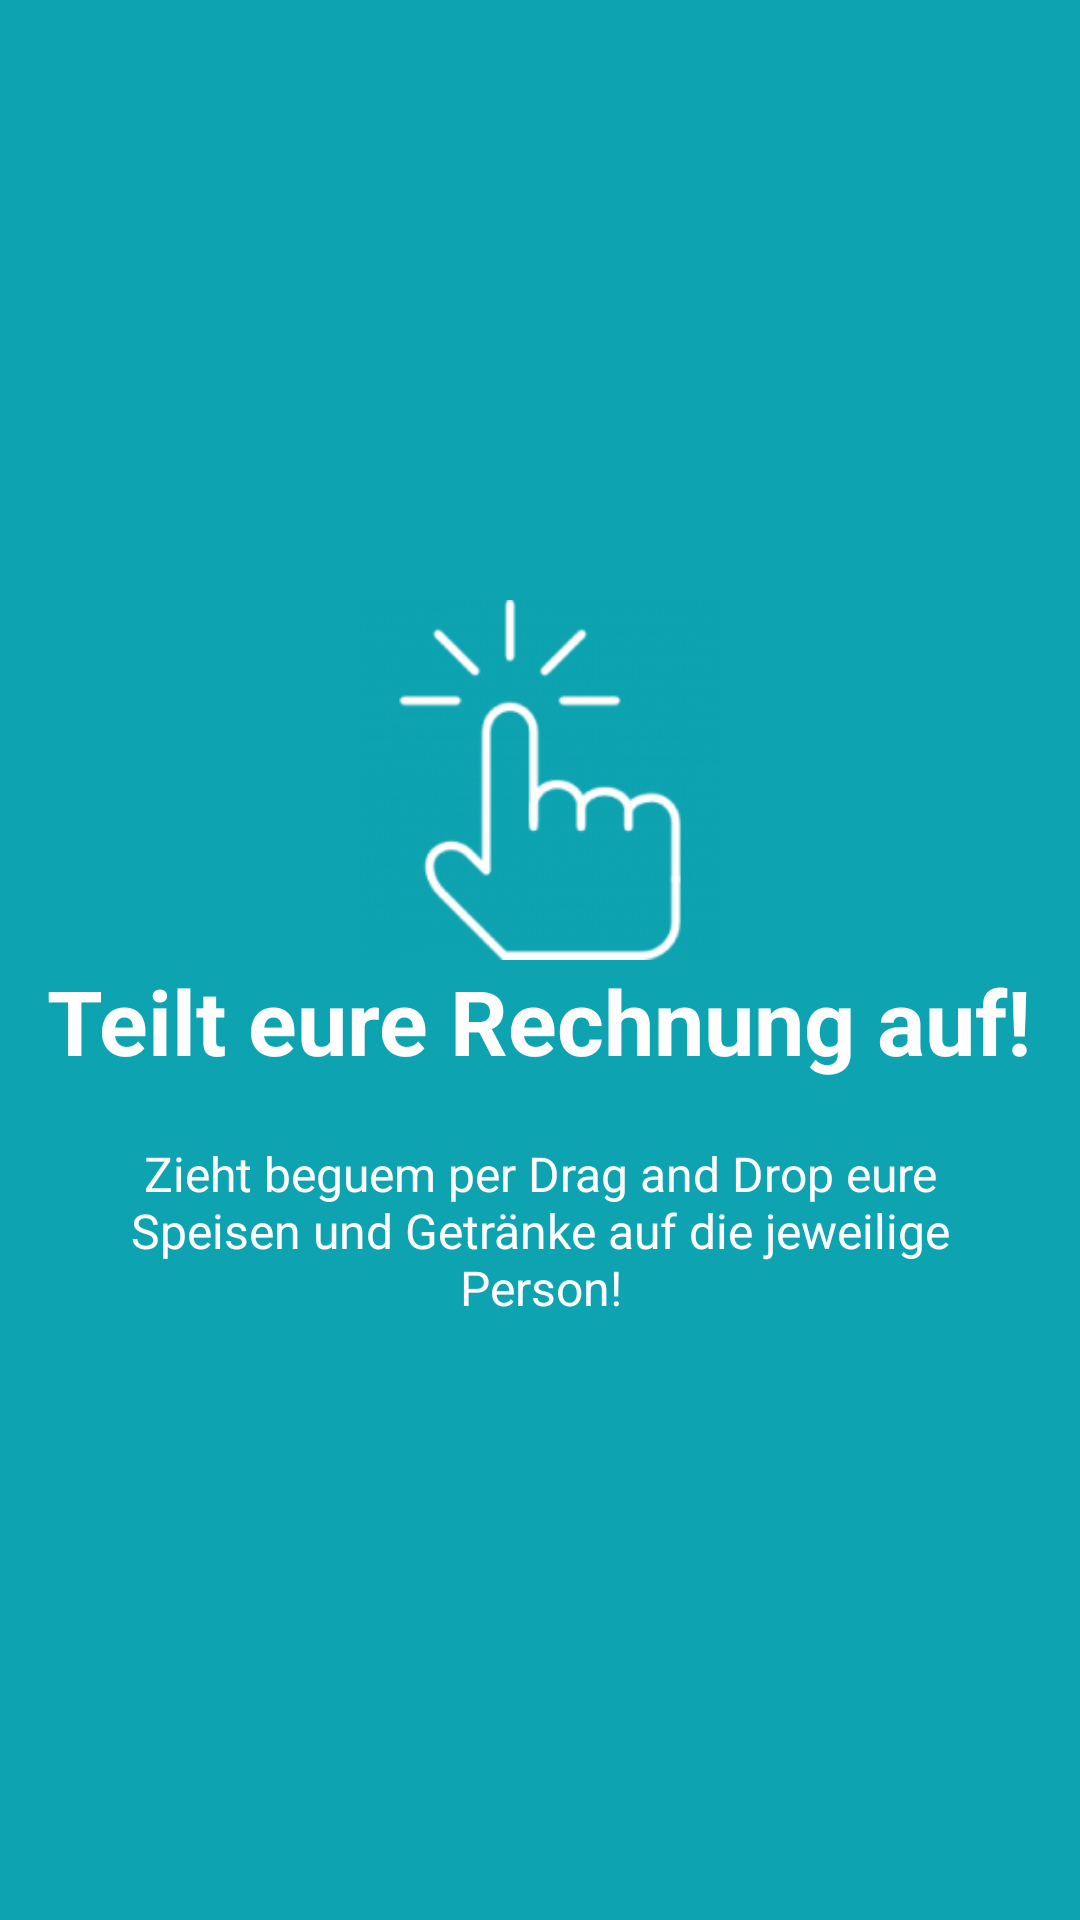

Screen size 1080 × 1920. Icon name, then its box in pixels as (x1, y1, x2, y2):
dragndrop: (399, 600, 681, 960)
